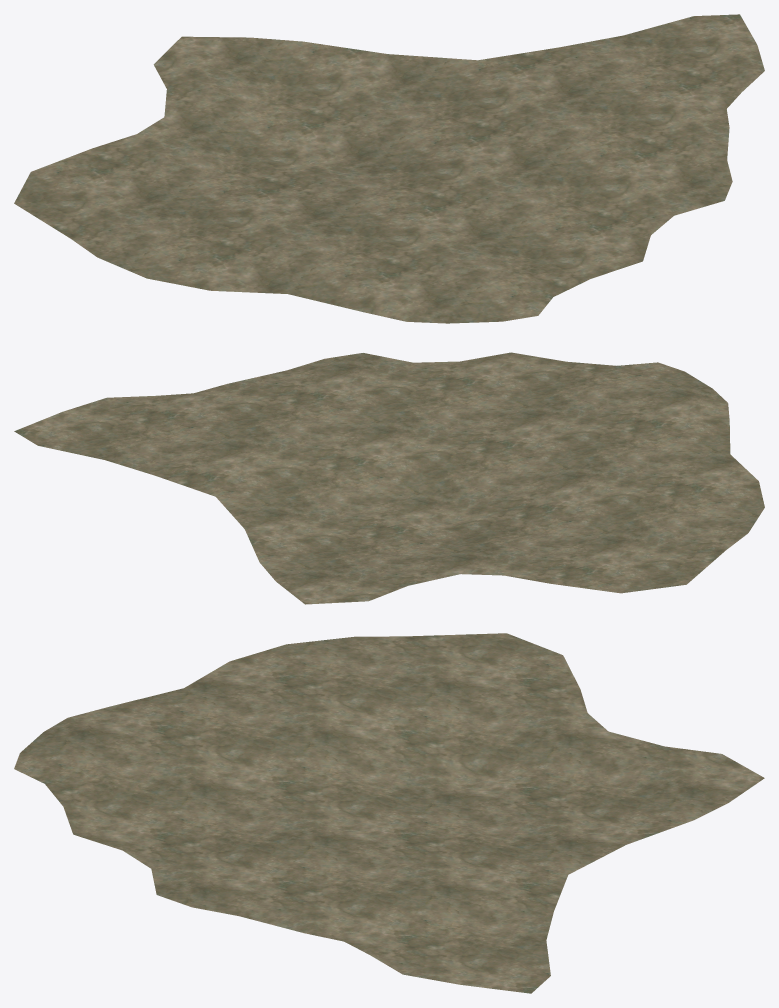
File: EKH_CAVERNS_PS_CA_LINE42.obj
3 views of the same model, one above another, from view 1: azimuth 30°, elevation 25°; view 2: azimuth 150°, elevation 25°; view 3: azimuth 270°, elevation 25° (orthographic). The views are drawn at different scales.
Visible parts, largest first — view 1: CA_Line42; view 2: CA_Line42; view 3: CA_Line42.
Part boxes in pixels (x1=…): CA_Line42: x1=14, y1=14, x2=764, y2=323; CA_Line42: x1=14, y1=352, x2=764, y2=604; CA_Line42: x1=14, y1=633, x2=764, y2=993.
Bounding box in the file's own units: 2228 × 44.87 × 1961.
